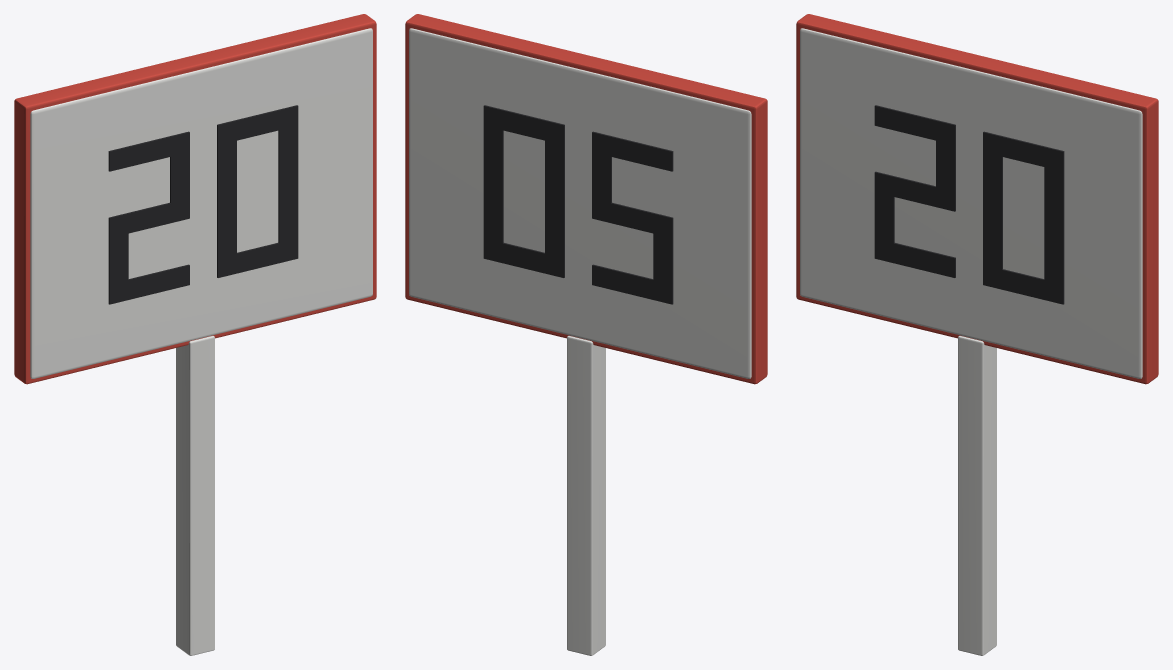
File: yard_board_20.glb
3 views of the same model, side by side, from view 1: azimuth 30°, elevation 25°; view 2: azimuth 150°, elevation 25°; view 3: azimuth 330°, elevation 25° (orthographic).
Parts seen in each view (by area): view 1: SM_yard_board_20; view 2: SM_yard_board_20; view 3: SM_yard_board_20.
Part boxes in pixels (left/top/right/bottom): SM_yard_board_20: left=14, top=14, right=376, bottom=655; SM_yard_board_20: left=405, top=14, right=767, bottom=655; SM_yard_board_20: left=796, top=14, right=1158, bottom=655.
Size of the model in its own units: 0.82 by 1.31 by 0.068.
